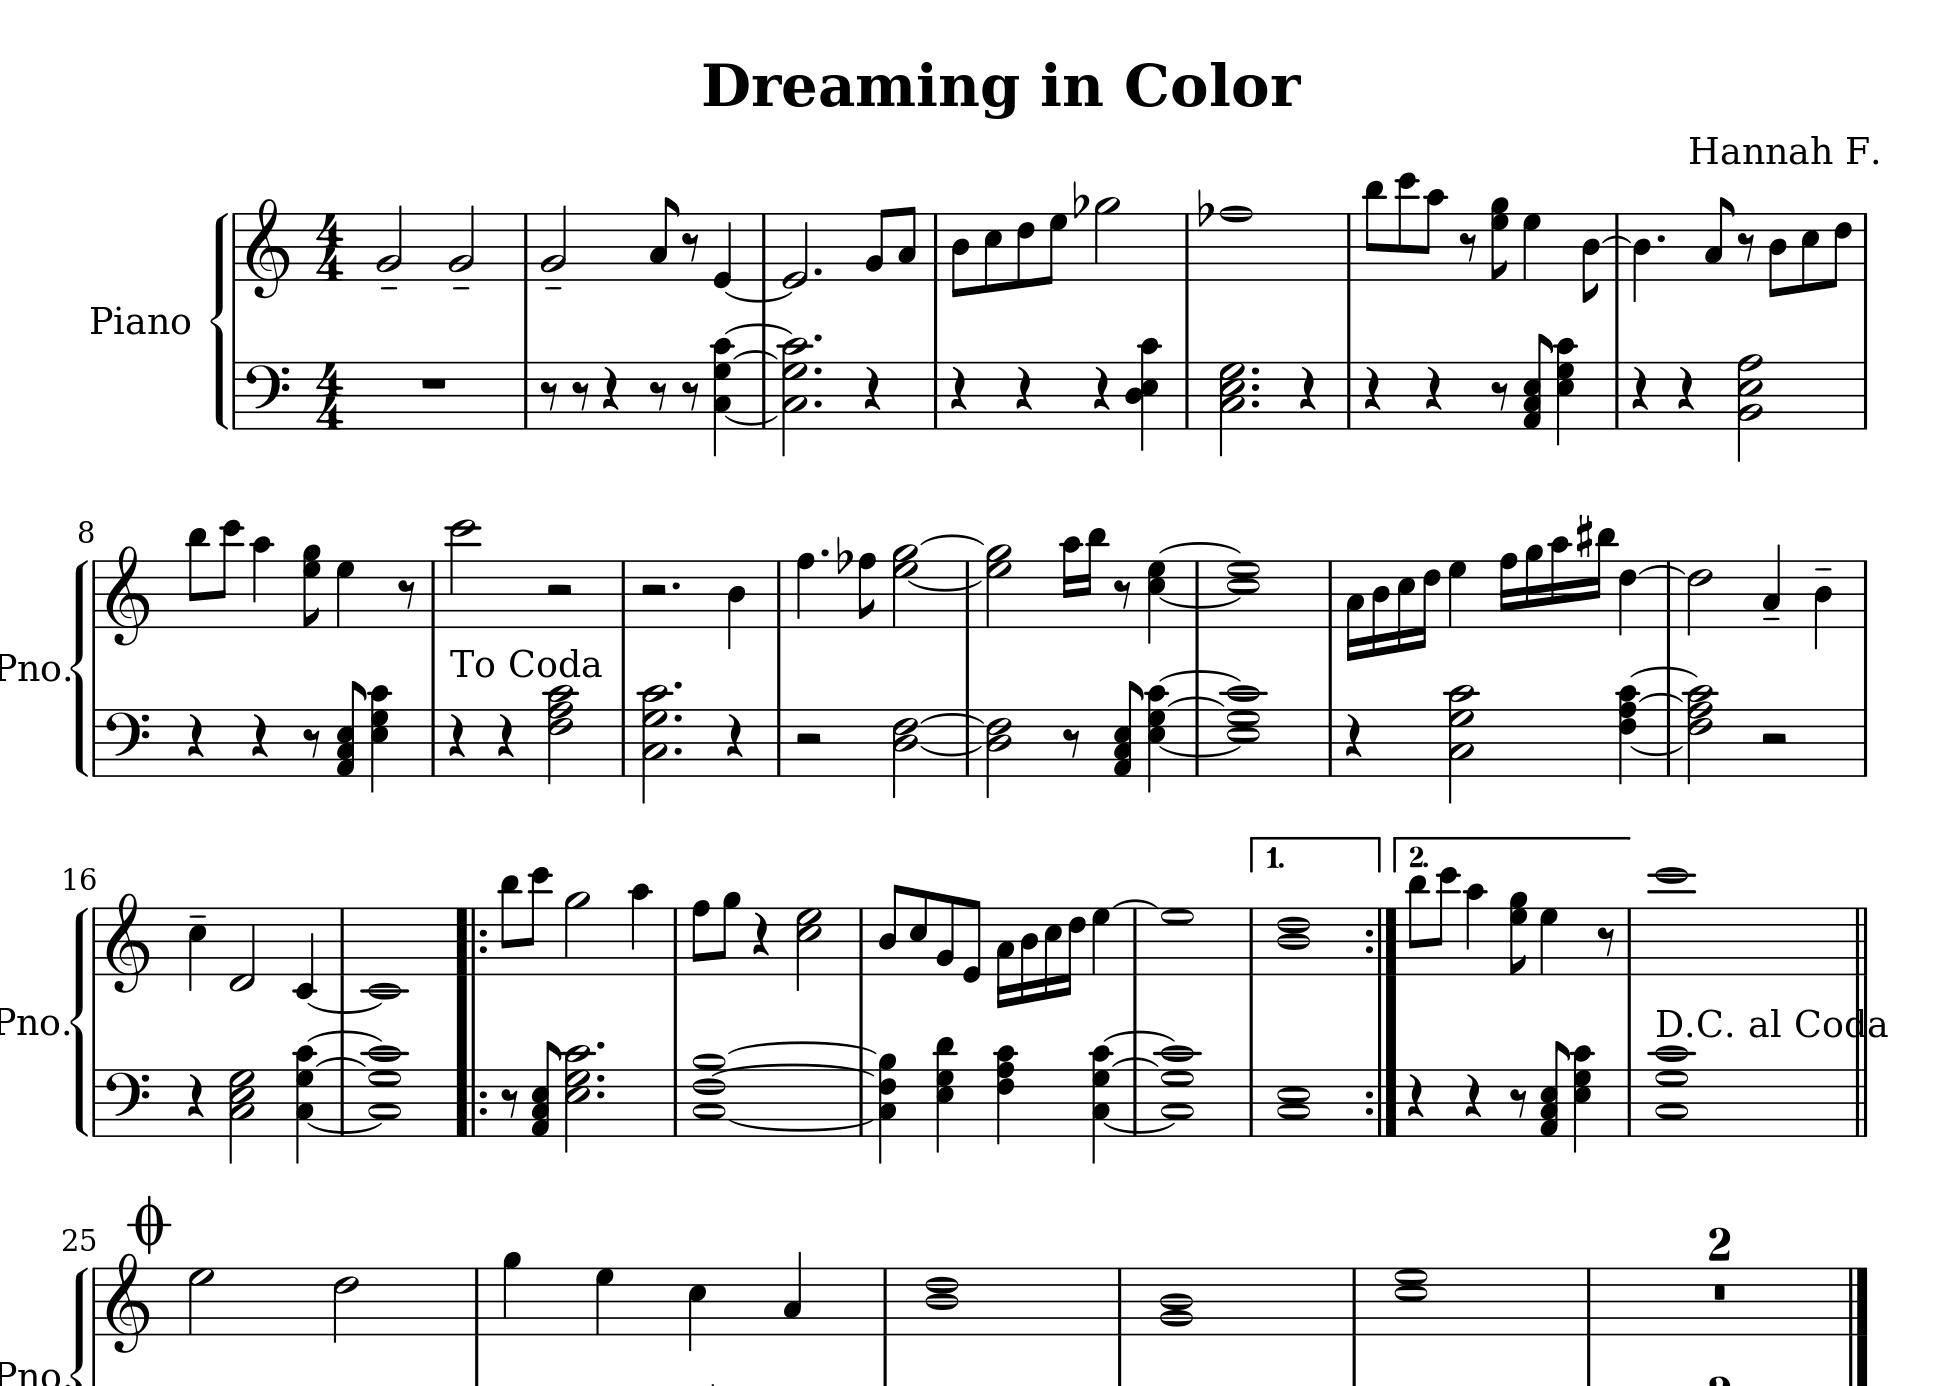1: (63, 864, 75, 891)
16_10: (1548, 534, 1572, 628), (1059, 534, 1081, 628)
16_11: (1587, 525, 1615, 631), (1080, 526, 1107, 628)
16_3: (996, 904, 1015, 1009), (1345, 559, 1365, 661)
16_4: (1018, 904, 1038, 1006), (1371, 559, 1390, 657)
16_5: (1395, 558, 1416, 652), (1044, 904, 1062, 999)
16_6: (1416, 558, 1441, 649), (1062, 904, 1087, 996)
16_8: (1497, 550, 1518, 630)
16_9: (1524, 541, 1543, 628)
1_-2: (363, 904, 403, 1002)
1_12: (1650, 865, 1692, 979)
1_2_4: (1158, 1264, 1194, 1336)
1_3_5: (1275, 1066, 1312, 1138)
1_4_6: (921, 1266, 964, 1338), (1276, 906, 1314, 976)
1_5_7: (1224, 559, 1264, 630), (1392, 1264, 1431, 1336)
1_7: (1161, 904, 1195, 976)
1_8: (1221, 204, 1254, 283)
1_th: (1647, 1039, 1696, 1137), (1155, 1041, 1204, 1137), (363, 1042, 406, 1137), (1224, 682, 1266, 775), (690, 1051, 727, 1137)
2: (60, 1225, 79, 1252)
2_-1: (226, 904, 256, 994)
2_0: (780, 208, 810, 289)
2_12: (447, 517, 478, 631)
2_2: (538, 202, 568, 280), (375, 202, 403, 280), (447, 202, 475, 280)
2_4_6: (984, 709, 1014, 802), (891, 706, 919, 801)
2_5_7: (793, 904, 823, 990)
2_6: (331, 1266, 358, 1345), (1686, 558, 1713, 636)
2_7: (186, 1266, 214, 1336)
2_7_9: (889, 543, 919, 630), (985, 543, 1014, 630)
2_9: (562, 889, 592, 976), (1092, 195, 1120, 282)
2_th: (1444, 681, 1479, 802), (637, 676, 670, 802), (543, 681, 577, 784), (1684, 682, 1719, 784), (1735, 351, 1764, 460), (1218, 358, 1245, 456)
4: (313, 211, 346, 247), (313, 360, 345, 396), (313, 247, 346, 280), (313, 394, 345, 429)
4_-2: (292, 904, 318, 1000)
4_0: (712, 210, 735, 291)
4_10: (627, 880, 652, 976), (1464, 880, 1488, 976), (249, 535, 273, 628)
4_3: (1761, 543, 1782, 628), (781, 1249, 802, 1335)
4_4: (724, 558, 747, 651), (1812, 558, 1834, 649), (1632, 211, 1653, 303)
4_5: (184, 904, 208, 994), (685, 1264, 708, 1353)
4_5_7: (1146, 556, 1167, 645)
4_6: (1617, 558, 1638, 637)
4_7: (592, 1264, 616, 1336), (1521, 211, 1543, 282), (1539, 904, 1560, 976), (334, 558, 355, 628), (1446, 559, 1467, 628), (1090, 906, 1110, 975)
4_8: (793, 550, 817, 630)
4_9: (501, 1249, 522, 1336)
4_th: (1125, 340, 1162, 451), (930, 1033, 958, 1155), (1086, 1042, 1114, 1162), (1567, 1039, 1596, 1152), (289, 1045, 316, 1164), (1552, 336, 1579, 442), (991, 1042, 1018, 1146), (366, 681, 391, 789), (1141, 681, 1167, 789), (876, 1051, 898, 1162), (1614, 682, 1638, 784)
5: (79, 1225, 97, 1252)
6: (79, 864, 96, 891)
8: (76, 516, 94, 544)
8_0: (960, 895, 982, 984)
8_10: (1419, 187, 1446, 282)
8_11: (1363, 177, 1387, 282), (186, 526, 208, 628), (499, 871, 520, 976), (1407, 871, 1428, 976)
8_12: (523, 864, 552, 976), (214, 517, 243, 628), (1432, 865, 1461, 976), (1395, 169, 1419, 282)
8_2: (862, 205, 889, 280), (934, 892, 955, 976)
8_3: (646, 195, 678, 282), (1702, 195, 1734, 282), (897, 204, 916, 282)
8_4: (877, 882, 904, 976), (1581, 211, 1602, 304), (1767, 211, 1788, 300), (949, 211, 970, 298)
8_5: (907, 886, 928, 976), (982, 210, 1003, 294), (1800, 210, 1821, 292)
8_6: (1827, 211, 1854, 288), (1014, 210, 1035, 289)
8_7: (1041, 211, 1068, 285)
8_7_9: (1488, 195, 1510, 283), (1509, 889, 1530, 976), (301, 543, 321, 631)
8_8: (856, 550, 877, 630), (690, 897, 711, 976)
8_9: (714, 889, 741, 976)
8_th: (529, 1038, 564, 1140), (1539, 1038, 1573, 1138), (1522, 331, 1555, 430), (334, 678, 367, 777), (1113, 679, 1146, 777)
Brace: (208, 210, 229, 432), (70, 903, 88, 1137), (70, 555, 88, 775)
Coda: (127, 1194, 169, 1252)
Double_barline: (1848, 1069, 1872, 1137), (1849, 907, 1873, 973)
Fclef: (241, 358, 292, 430), (103, 706, 151, 778), (103, 1066, 151, 1138)
Final_barline: (1845, 1266, 1872, 1333)
Flat: (1197, 186, 1213, 229), (835, 532, 852, 576), (1071, 178, 1086, 220)
Gclef: (105, 889, 151, 994), (244, 195, 289, 298), (106, 543, 151, 646), (105, 1251, 148, 1354)
LeftRepeatSign: (453, 1068, 489, 1135), (453, 907, 489, 973)
Pno: (87, 304, 193, 334), (1, 1003, 61, 1038), (1, 649, 61, 682), (1, 1357, 63, 1386)
Prima_volta: (1248, 832, 1383, 874)
Rests1: (417, 373, 450, 391)
Rests2: (541, 580, 577, 600), (636, 580, 669, 601), (790, 729, 825, 747), (1758, 729, 1791, 747)
Rests4: (1359, 364, 1386, 414), (1294, 363, 1320, 412), (946, 364, 970, 414), (1089, 363, 1113, 412), (1422, 364, 1446, 414), (721, 711, 745, 760), (748, 909, 772, 958), (1461, 1071, 1485, 1120), (859, 364, 883, 412), (1674, 364, 1698, 412), (1404, 1072, 1428, 1120), (1342, 711, 1365, 760), (598, 364, 621, 412), (1012, 364, 1035, 412), (1629, 364, 1651, 412), (247, 711, 270, 759), (445, 711, 468, 759), (183, 1071, 205, 1119), (184, 711, 205, 759), (493, 712, 514, 759)
Rests8: (1488, 379, 1512, 414), (681, 229, 703, 265), (301, 726, 324, 760), (1509, 1086, 1531, 1120), (679, 379, 702, 412), (396, 577, 418, 610), (1458, 229, 1479, 264), (538, 378, 559, 412), (570, 378, 591, 412), (1062, 724, 1083, 759), (1596, 924, 1617, 958), (499, 1086, 520, 1120), (1737, 229, 1758, 262), (648, 379, 669, 412), (1113, 577, 1134, 610)
RightRepeatSign: (1363, 907, 1401, 973), (1365, 1068, 1399, 1135)
Seconda_volta: (1389, 835, 1629, 871)
Sharp: (1575, 511, 1594, 561)
Single_barline: (466, 1266, 487, 1333), (1578, 1267, 1599, 1333), (754, 213, 772, 289), (1321, 559, 1339, 627), (667, 907, 685, 975), (1242, 1068, 1260, 1135), (1110, 1267, 1128, 1335), (1242, 907, 1260, 973), (1620, 907, 1638, 973), (1620, 1069, 1638, 1135), (1345, 1267, 1363, 1333), (613, 561, 631, 625), (769, 709, 787, 774), (1341, 211, 1357, 280), (1179, 213, 1195, 280), (1857, 559, 1873, 627), (1662, 562, 1678, 630), (1321, 708, 1338, 775), (1126, 907, 1143, 975), (877, 1267, 894, 1335), (517, 213, 534, 279), (517, 361, 534, 427), (1179, 361, 1195, 427), (1341, 361, 1357, 427), (424, 559, 441, 625), (771, 561, 787, 627), (961, 561, 978, 627), (424, 709, 441, 775), (1855, 709, 1872, 775), (667, 1069, 684, 1135), (1189, 561, 1206, 625), (615, 709, 631, 774), (336, 1069, 352, 1134), (928, 211, 943, 280), (961, 711, 978, 772), (226, 213, 241, 280), (1857, 361, 1872, 429), (87, 559, 102, 627), (853, 907, 868, 975), (334, 907, 349, 975), (88, 1267, 103, 1335), (1609, 361, 1624, 427), (928, 361, 943, 427), (1128, 1069, 1143, 1135), (1860, 211, 1873, 280), (228, 361, 241, 429), (88, 709, 102, 775), (88, 907, 102, 973), (88, 1069, 102, 1135)
Slur: (1158, 669, 1243, 682), (904, 577, 988, 591), (1159, 540, 1242, 553), (1161, 595, 1240, 609), (1632, 664, 1699, 679), (1101, 1029, 1176, 1042), (919, 532, 985, 547), (1161, 745, 1242, 757), (919, 711, 987, 724), (307, 1120, 382, 1132), (307, 1002, 381, 1014), (1104, 1120, 1176, 1132), (724, 289, 795, 301), (724, 322, 793, 334), (306, 1030, 382, 1041), (919, 745, 984, 756), (1168, 694, 1224, 706), (721, 414, 781, 424), (1639, 562, 1686, 576), (1113, 1054, 1158, 1068), (316, 1054, 364, 1066), (733, 348, 778, 360), (1113, 897, 1158, 909), (1629, 745, 1686, 754), (1639, 690, 1681, 702), (1602, 232, 1632, 244)
TimeSig: (313, 211, 349, 280), (313, 361, 346, 430)
ToCoda: (444, 646, 607, 676)
dot: (667, 577, 682, 592), (592, 1038, 607, 1053), (810, 331, 825, 345), (810, 363, 825, 376), (1248, 363, 1263, 376), (594, 1069, 607, 1084), (810, 264, 823, 277), (817, 546, 831, 559), (670, 711, 684, 724), (1653, 232, 1666, 244), (670, 679, 684, 691), (670, 744, 682, 757), (594, 1087, 607, 1099), (811, 397, 823, 409), (1249, 379, 1260, 391), (1249, 397, 1260, 408)
